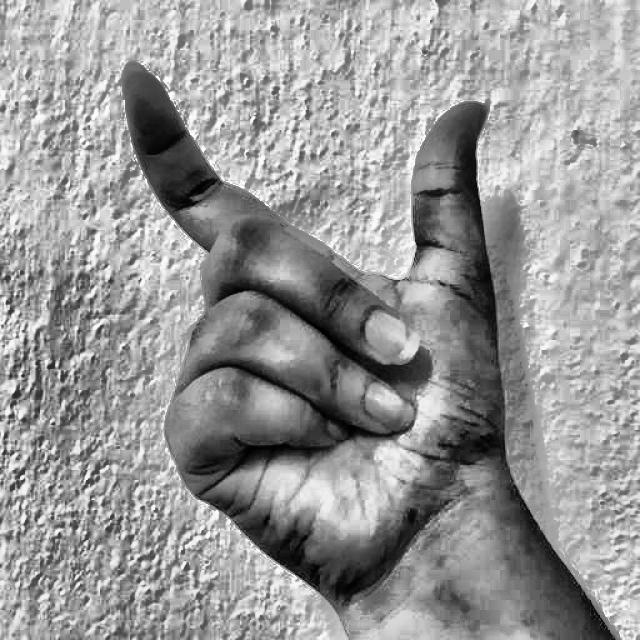ChandraBindu: (96, 24, 546, 609)
